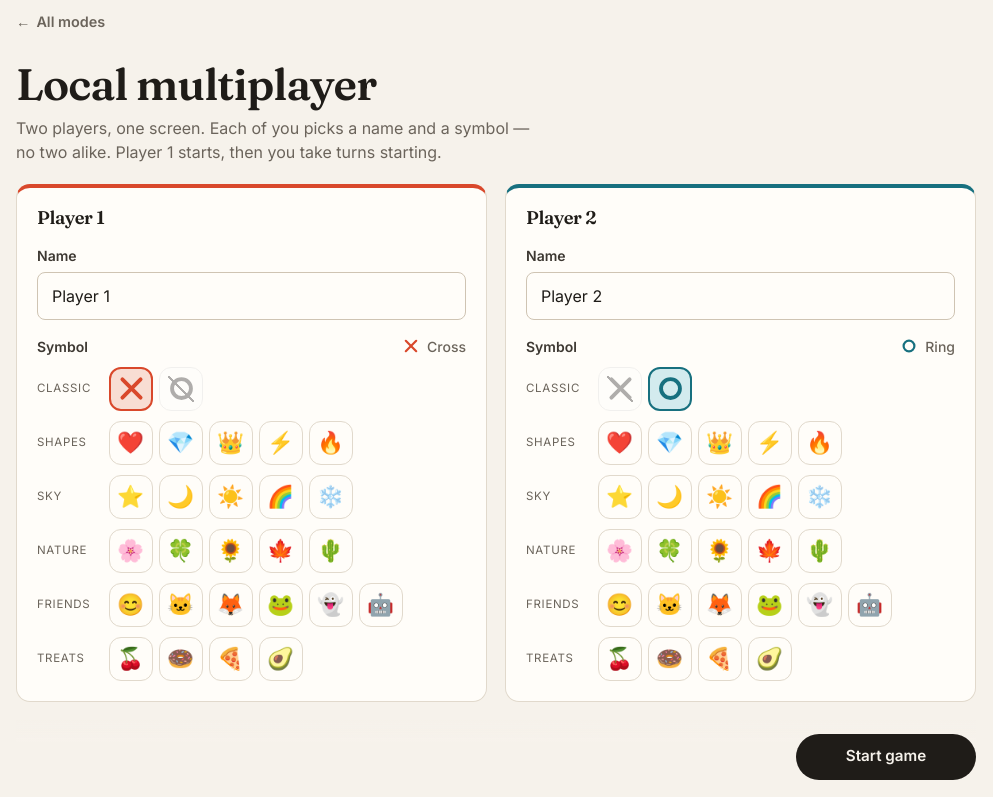
Test: Local multiplayer › prevents both players from picking the same symbol
The width and height of the screenshot is (993, 797).
Click the radio button named "Heart": (131, 443) [109, 421, 153, 465]
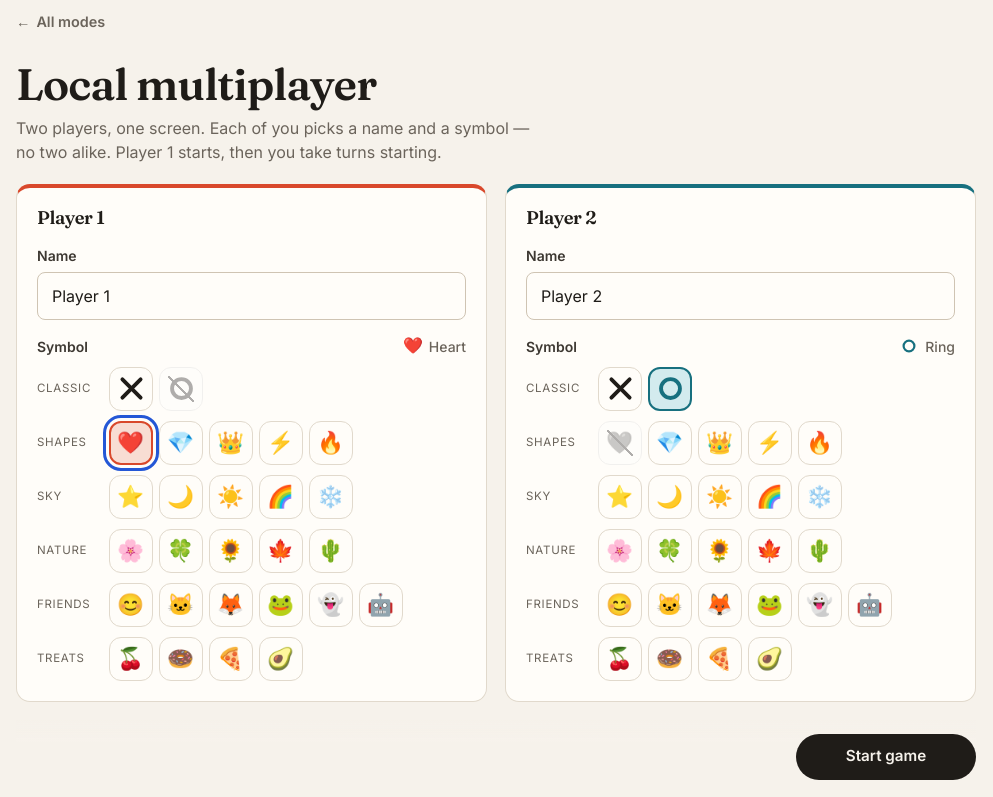
Check: the radio button named "Heart (taken by" is disabled
Click the radio button named "Heart (taken by": (620, 443) [598, 421, 642, 465]
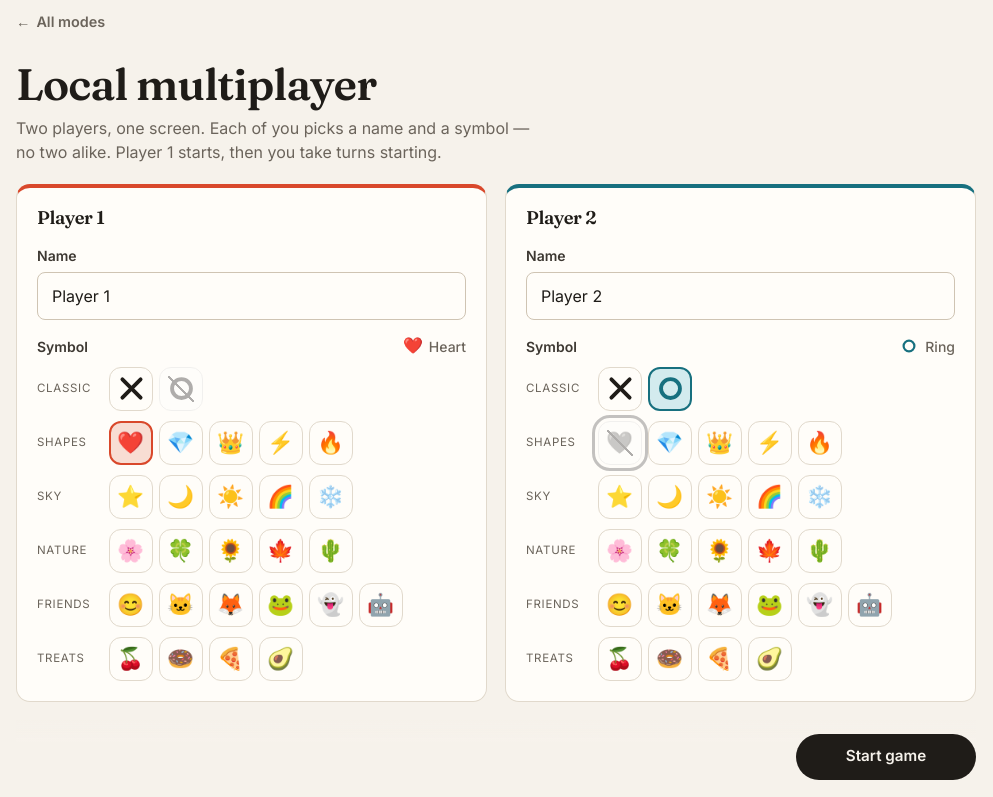
Check: the radio button named "Heart" is checked, box [109, 421, 153, 465]
Changing player 1's symbol frees heart up again for player 2.
Click the radio button named "Moon": (181, 497) [159, 475, 203, 519]
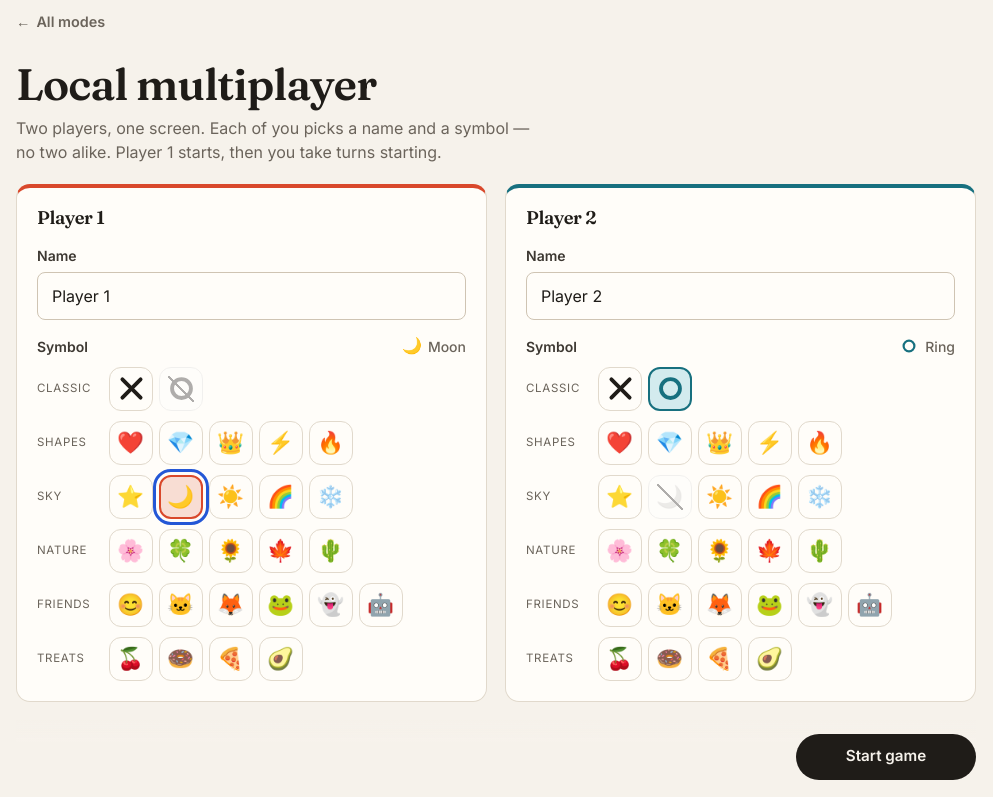
Check: the radio button named "Heart" does not have attribute aria-disabled, box [598, 421, 642, 465]
